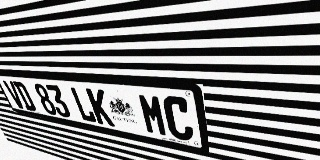3: (45, 84, 72, 118)
8: (32, 83, 58, 116)
C: (162, 95, 195, 142)
D: (12, 81, 37, 112)
K: (85, 88, 115, 127)
L: (69, 87, 98, 123)
M: (137, 93, 169, 137)
V: (2, 80, 27, 110)
